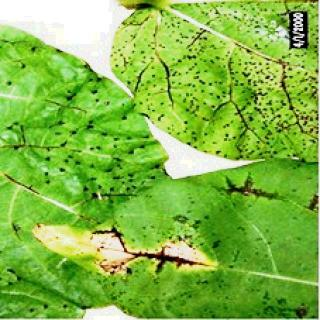blight: (112, 9, 282, 150), (31, 190, 215, 292)
